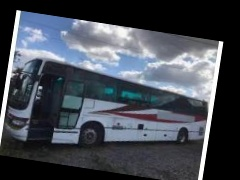bus: (1, 53, 212, 169)
